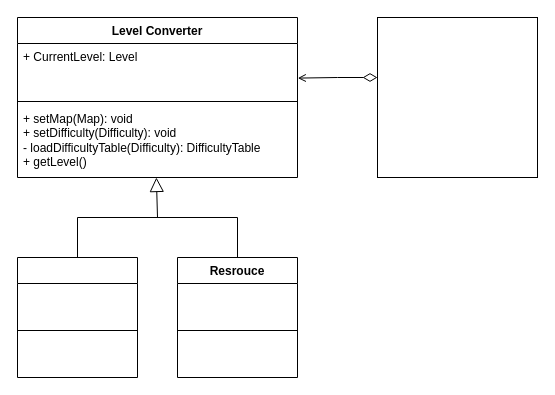
Image size: 555x395. Some labels were removed from this diagram. The shapes that lost their labels are listed below. From the top down, each one's centre as x and y in pixels, then its label:
At pixel 457 97: "Level Manger".
At pixel 77 317: "TextConverter".
